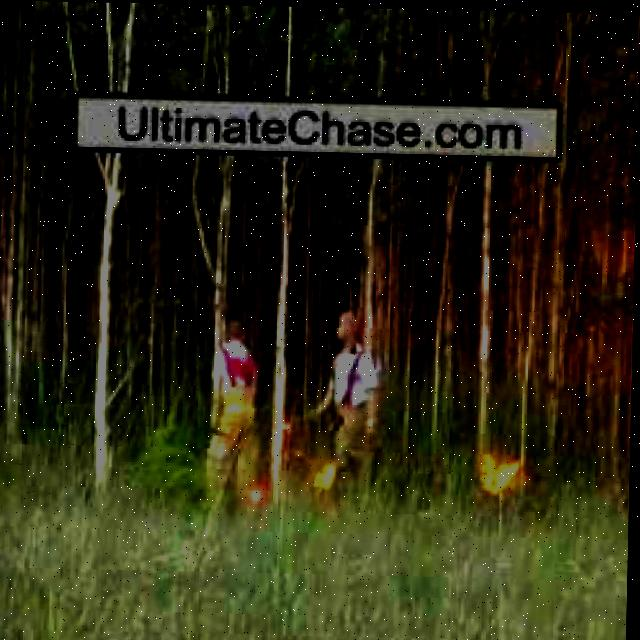Fire: (474, 452, 527, 499)
